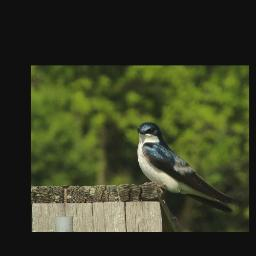Swallow: (135, 121, 238, 213)
